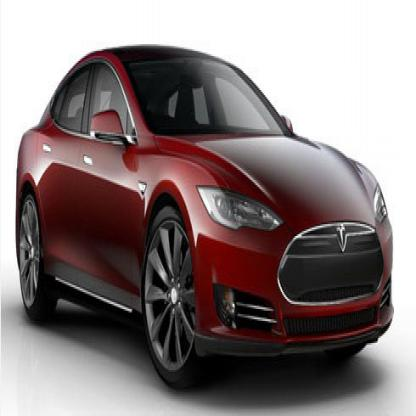Vehicle: (15, 40, 396, 390)
